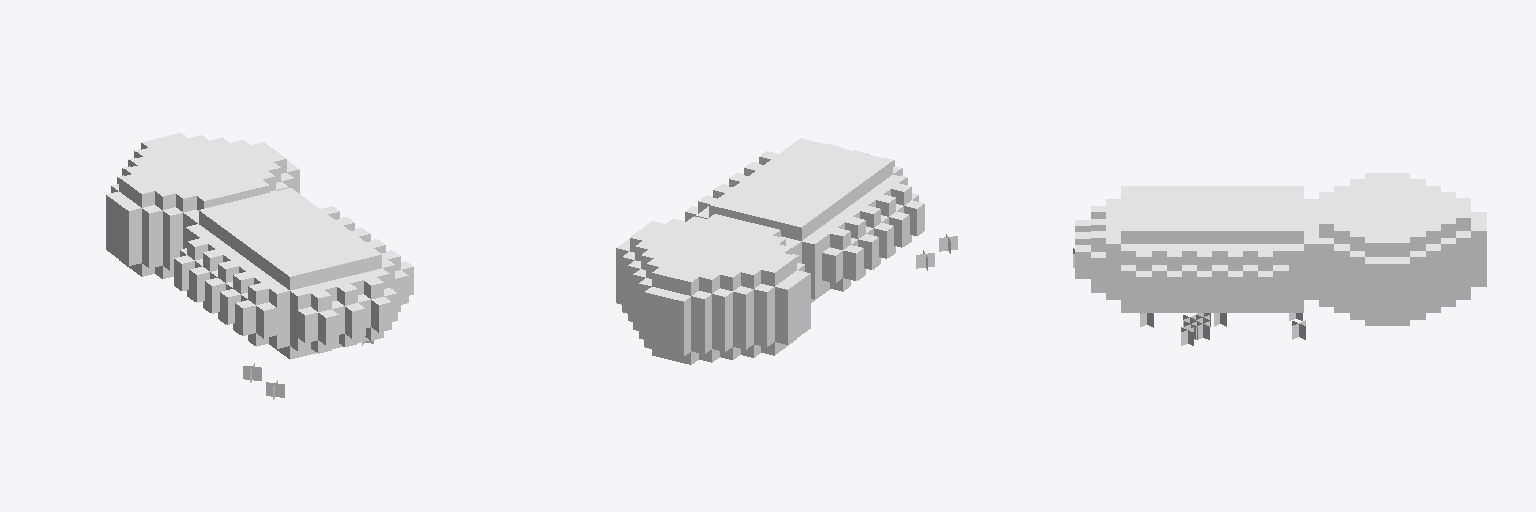
The picture shows the model from 3 angles: view 1: azimuth 30°, elevation 25°; view 2: azimuth 150°, elevation 25°; view 3: azimuth 270°, elevation 25°; orthographic projection.
Parts seen in each view (by area): view 1: 4482-app-3-levels__-6_1_-30_to_6_8_-4; view 2: 4482-app-3-levels__-6_1_-30_to_6_8_-4; view 3: 4482-app-3-levels__-6_1_-30_to_6_8_-4.
Boxes of the visible parts, x1=… form: 4482-app-3-levels__-6_1_-30_to_6_8_-4: x1=106, y1=133, x2=413, y2=399; 4482-app-3-levels__-6_1_-30_to_6_8_-4: x1=616, y1=138, x2=957, y2=364; 4482-app-3-levels__-6_1_-30_to_6_8_-4: x1=1073, y1=173, x2=1486, y2=345.
Bounding box in the file's own units: 13.13 × 7 × 27.13.